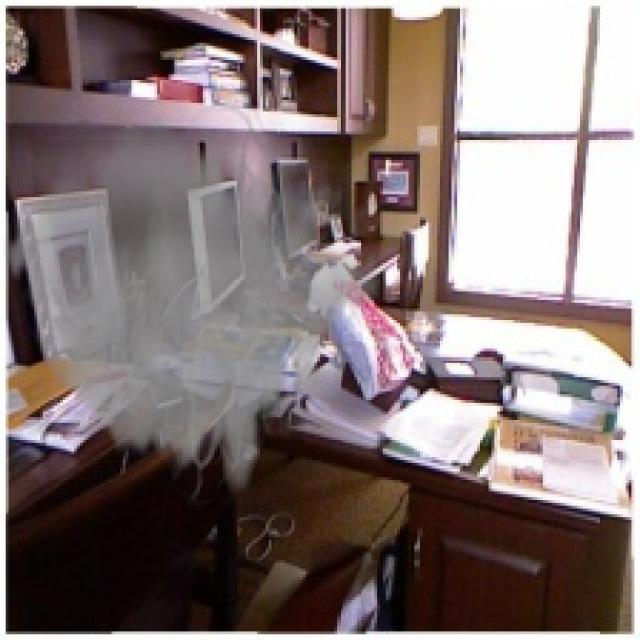smoke: (3, 83, 383, 508)
